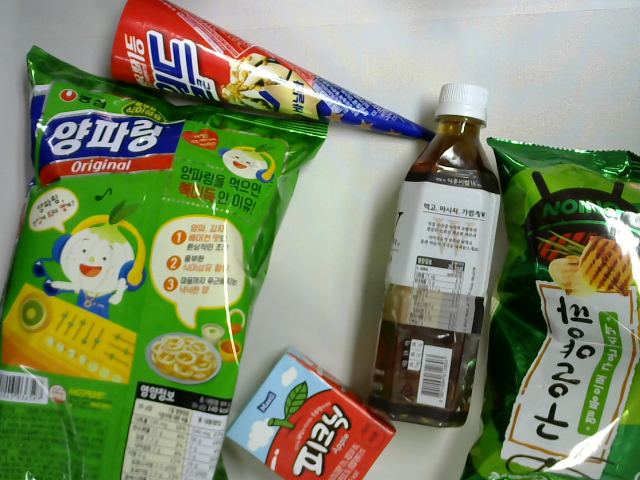Grilled_Onions: (455, 136, 640, 480)
Oninon_Ring: (1, 41, 329, 480)
Picnic_Apple: (227, 344, 403, 480)
Post-meal_recipe_W_tea_500ml: (366, 82, 507, 426)
World_Cone_Banila: (108, 1, 444, 142)
